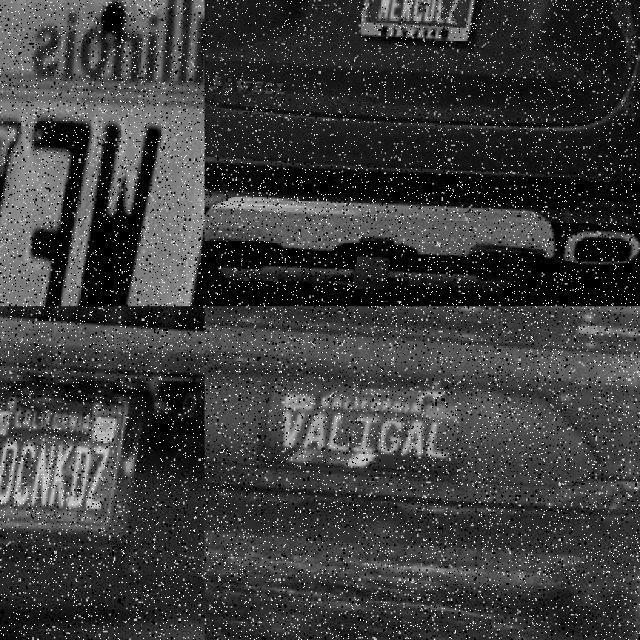LicensePlate: (0, 83, 205, 306), (263, 380, 482, 475), (0, 390, 134, 533), (364, 0, 482, 42)
